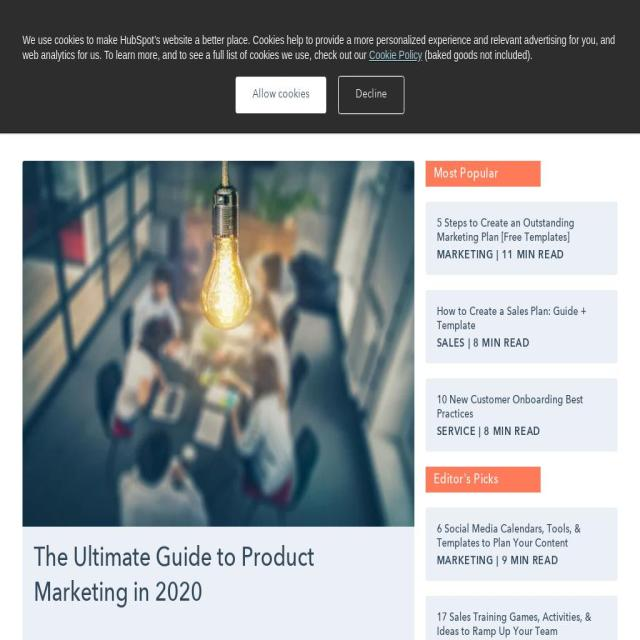button: (468, 317, 618, 363), (478, 406, 618, 452), (497, 229, 618, 275), (497, 535, 618, 581), (402, 81, 484, 135), (279, 81, 355, 135), (484, 81, 557, 135), (107, 11, 192, 57), (22, 11, 104, 58), (235, 76, 326, 113), (556, 81, 618, 135), (425, 229, 497, 275), (425, 535, 497, 581), (522, 16, 612, 52), (338, 75, 405, 114), (354, 81, 402, 135), (468, 623, 618, 640), (425, 406, 479, 452), (446, 16, 513, 53), (425, 317, 468, 363), (22, 95, 88, 121), (425, 623, 468, 640), (22, 0, 70, 8)
field: (412, 25, 438, 48)
heading: (22, 526, 414, 640), (425, 378, 617, 452), (425, 507, 617, 581), (425, 202, 617, 275), (425, 290, 617, 363), (425, 596, 617, 640), (433, 164, 532, 183), (433, 470, 532, 488)
image: (22, 161, 414, 527), (22, 95, 88, 121)
link: (369, 48, 422, 62)
text: (23, 32, 615, 62), (107, 22, 192, 46), (402, 96, 484, 120), (279, 96, 355, 120), (484, 96, 557, 120), (422, 48, 533, 62), (556, 96, 618, 120), (354, 96, 402, 120), (40, 28, 74, 42)
